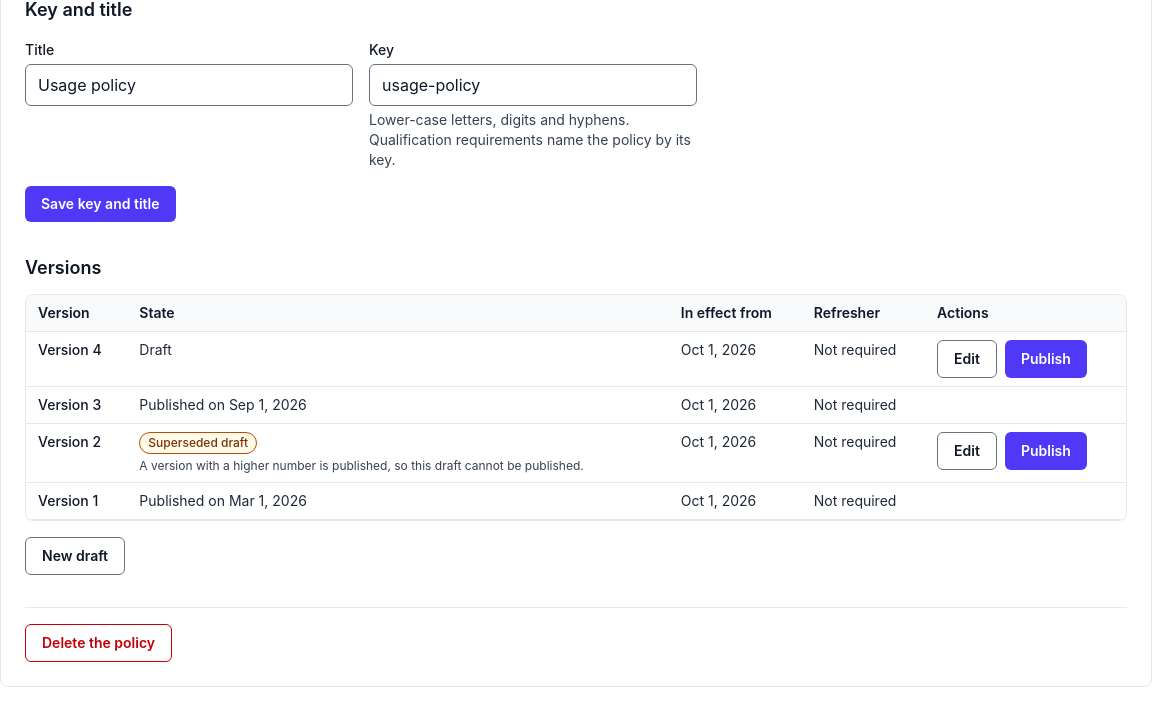
Test case: the publish dialog › shows refresh_due_count and sends requires_refresher
This screenshot has width=1152, height=719.
(page scrolled)
Step 1. Click the button named "Publish Version 4" → (1046, 359), box [1005, 340, 1087, 378]
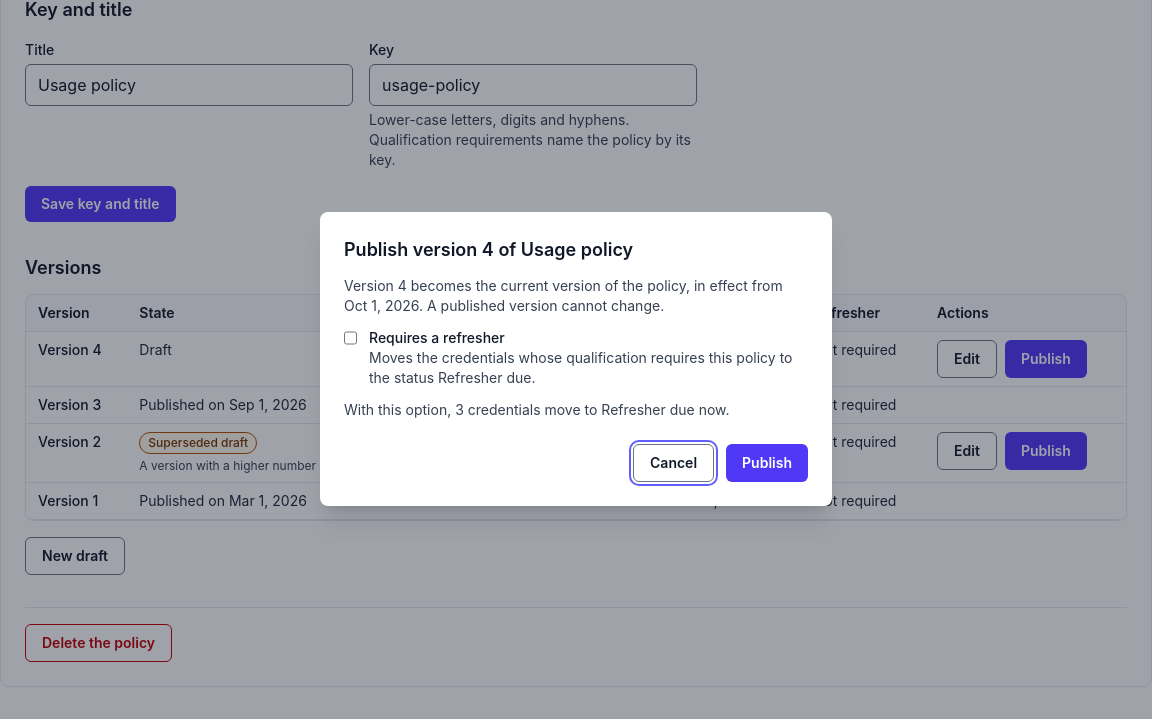
Expected: the checkbox labelled "Requires a refresher" is not checked
Expected: the text "With this option, 3 credentials move to Refresher due now." is shown, [344, 401, 730, 418]
Step 2. Click the checkbox labelled "Requires a refresher" → (350, 338), box [344, 330, 357, 346]
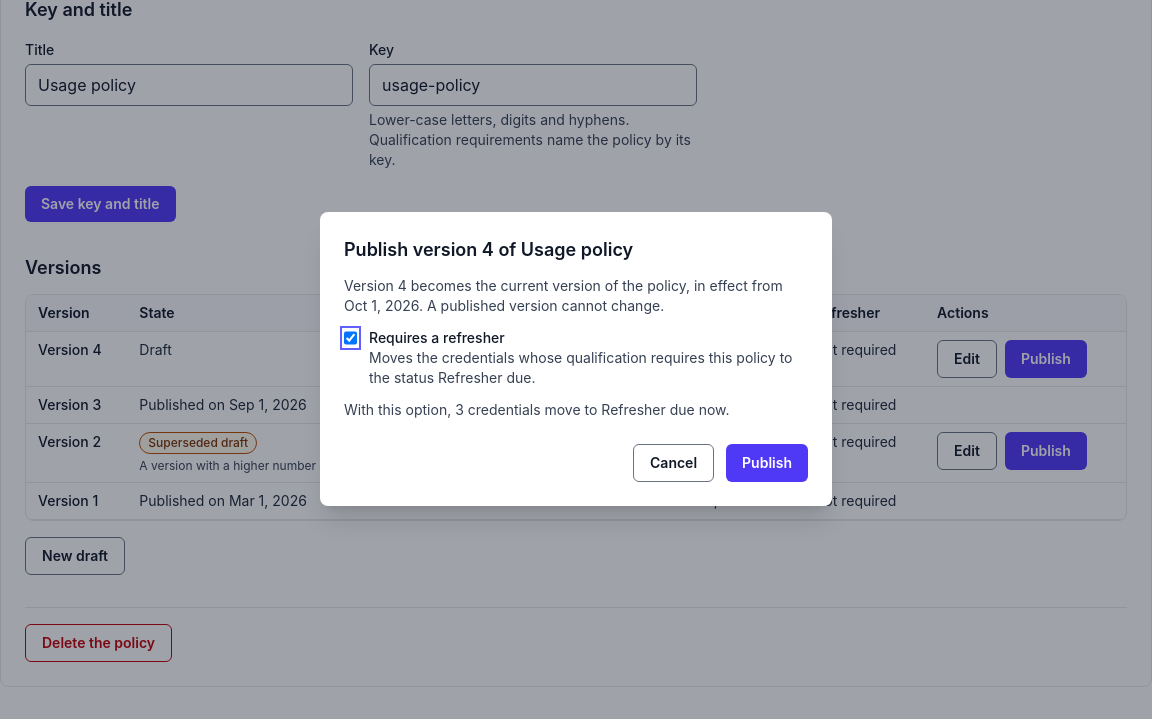
Step 3. Click the button "Publish" → (767, 463), box [726, 444, 808, 482]
(page scrolled)
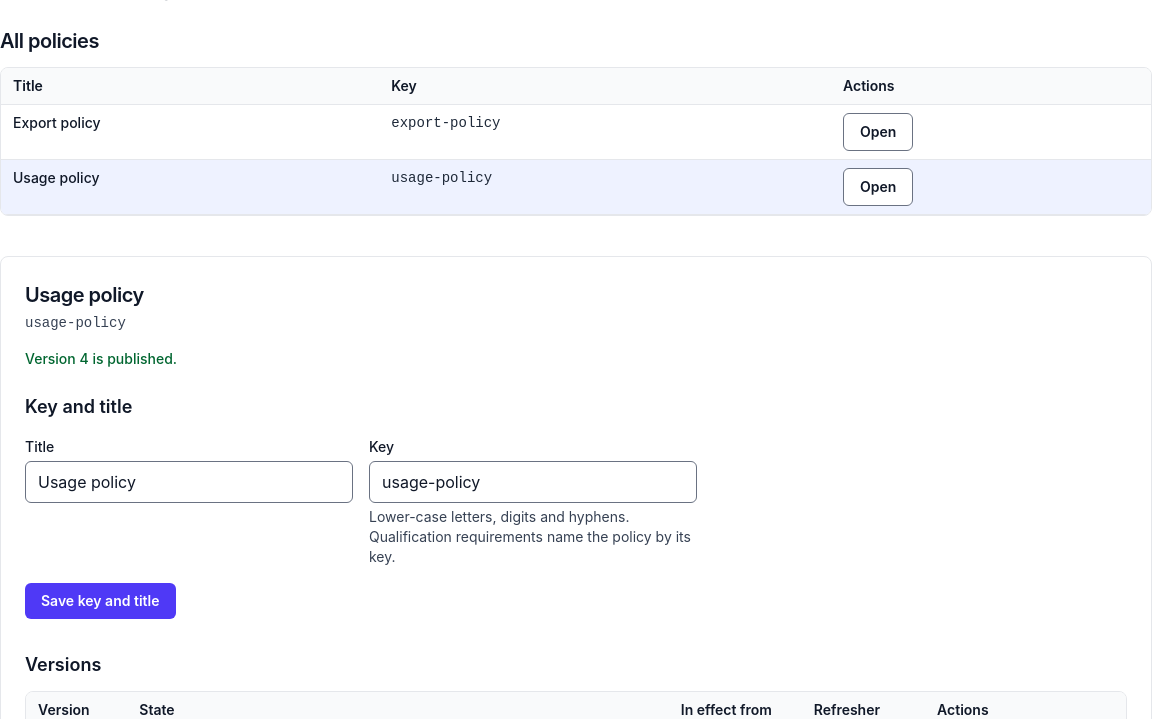
Expected: the text "Version 4 is published." is shown, [25, 350, 177, 367]
